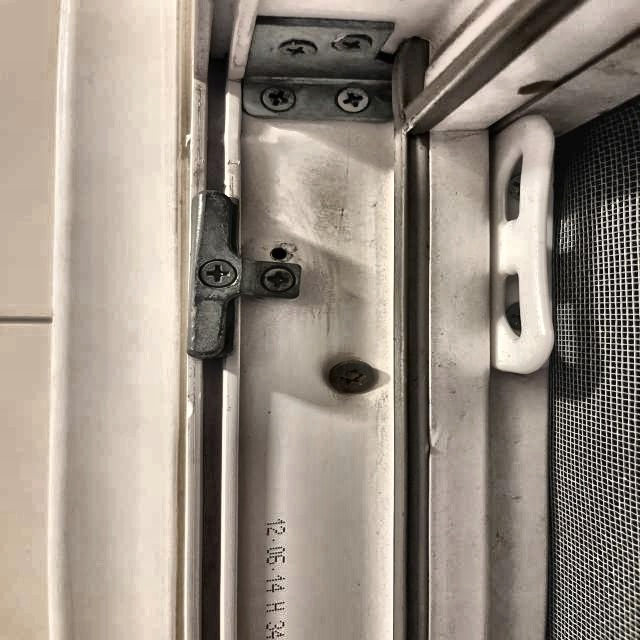phillips: (198, 259, 238, 289), (260, 267, 296, 292), (336, 86, 369, 113), (262, 85, 296, 111), (278, 39, 318, 60), (333, 35, 372, 53)
torx: (329, 361, 375, 394)
